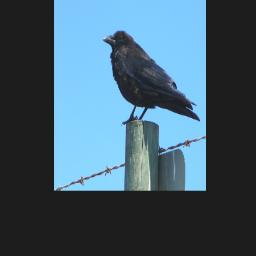Crow: (101, 29, 201, 126)
